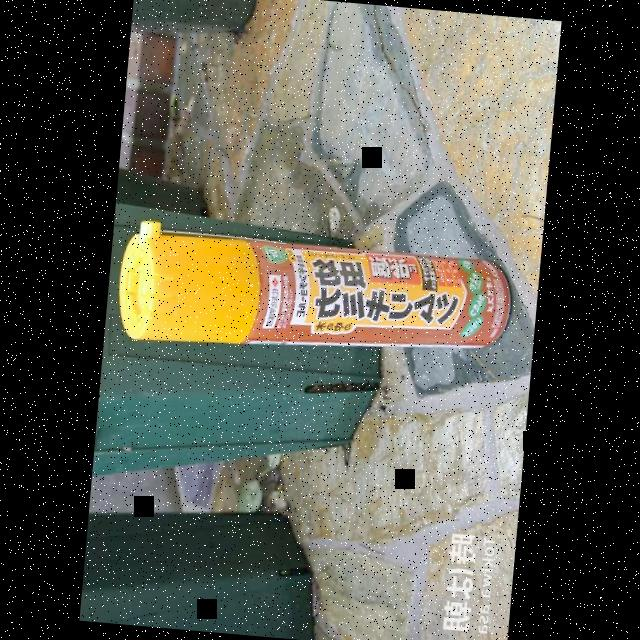chemical_spray_can: (105, 188, 528, 388)
